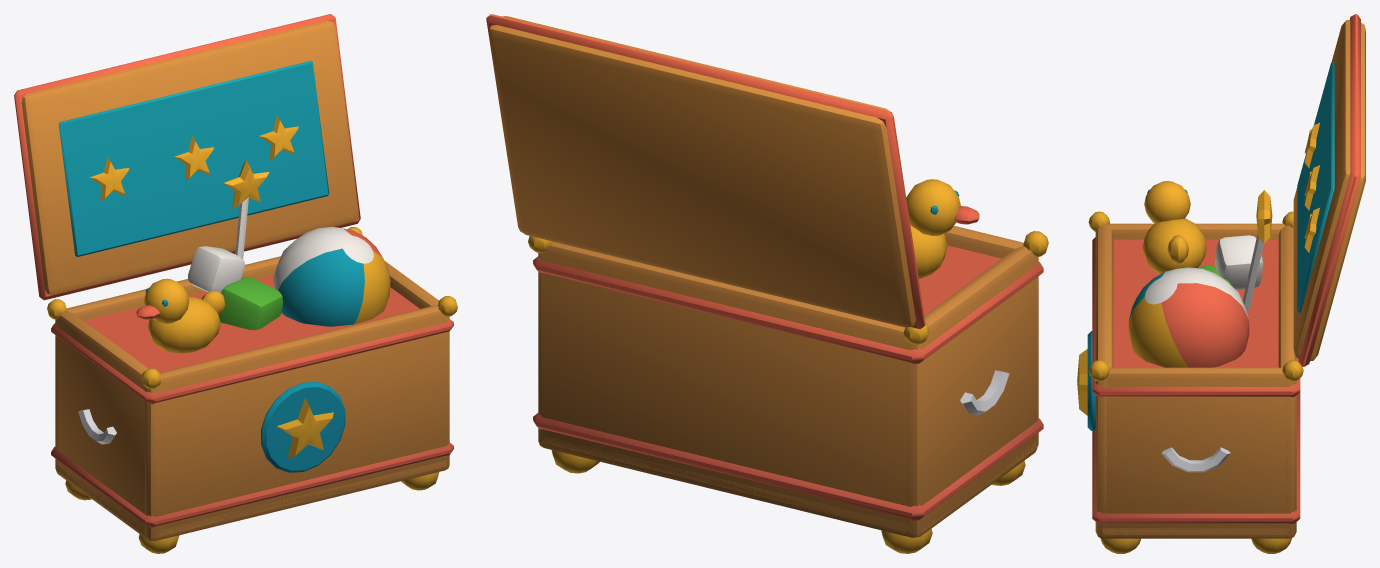
The model's file is toy_chest.glb.
3 views of the same model, side by side, from view 1: azimuth 30°, elevation 25°; view 2: azimuth 150°, elevation 25°; view 3: azimuth 270°, elevation 25° (orthographic). The views are drawn at different scales.
Visible parts, largest first — view 1: toy_chest; view 2: toy_chest; view 3: toy_chest.
Part boxes in pixels (x1,y1,x2,y2): toy_chest: (14, 14, 457, 553); toy_chest: (486, 14, 1048, 553); toy_chest: (1077, 14, 1365, 553).
Bounding box in the file's own units: 1.06 × 1.21 × 0.8051.
